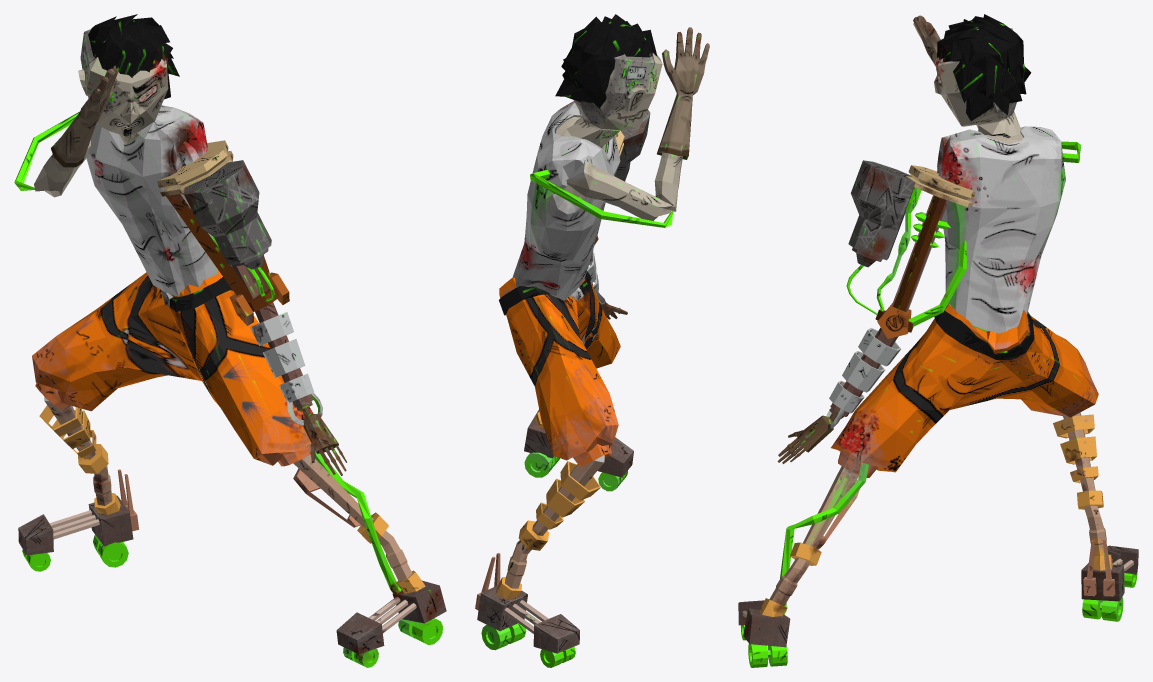
File: CyborgFINALAnimation_000045.obj
3 renders of one model, left to right at view 1: azimuth 30°, elevation 25°; view 2: azimuth 150°, elevation 25°; view 3: azimuth 270°, elevation 25°, orthographic. The views are drawn at different scales.
Visible parts, largest first — view 1: CyborgMesh_Cube.002; view 2: CyborgMesh_Cube.002; view 3: CyborgMesh_Cube.002.
Part boxes in pixels (box(x1,y1,x2,y2)): CyborgMesh_Cube.002: box(14, 14, 446, 667); CyborgMesh_Cube.002: box(475, 14, 709, 667); CyborgMesh_Cube.002: box(738, 14, 1138, 667).
Bounding box in the file's own units: 4.24 × 8.64 × 5.44.
